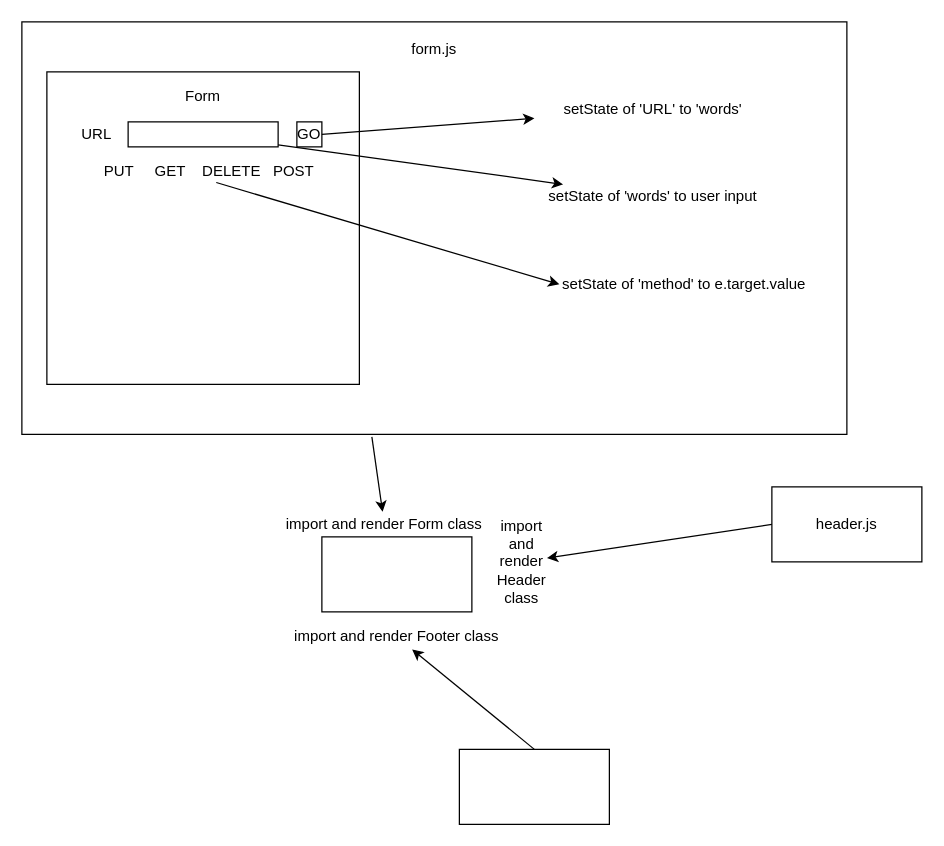
This 944x846 diagram has some shape labels left out. The shapes that lost their labels are listed below. From the top down, each one's centre as x and y in pixels, then its label:
pixel 396 574: APP.js
pixel 533 786: footer.js
